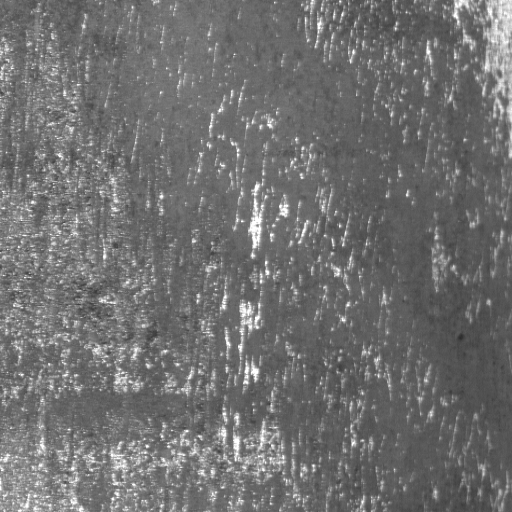xingxingliewen: (187, 75, 335, 259), (215, 298, 267, 462)
